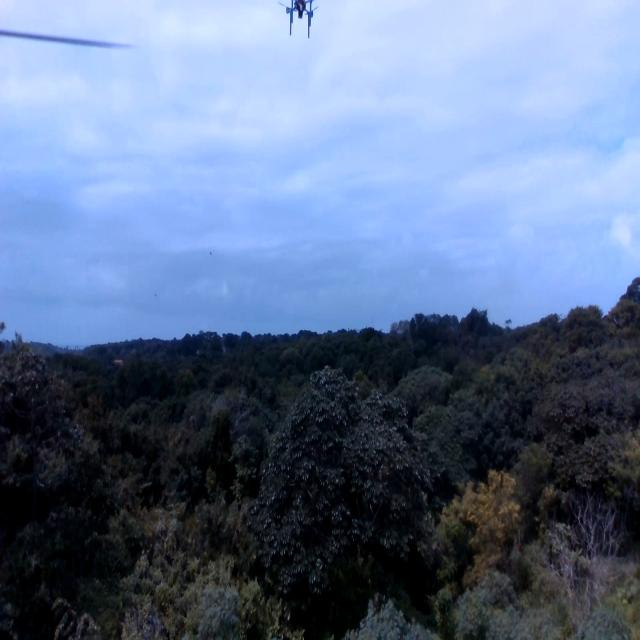-uav-: (282, 0, 320, 36)
